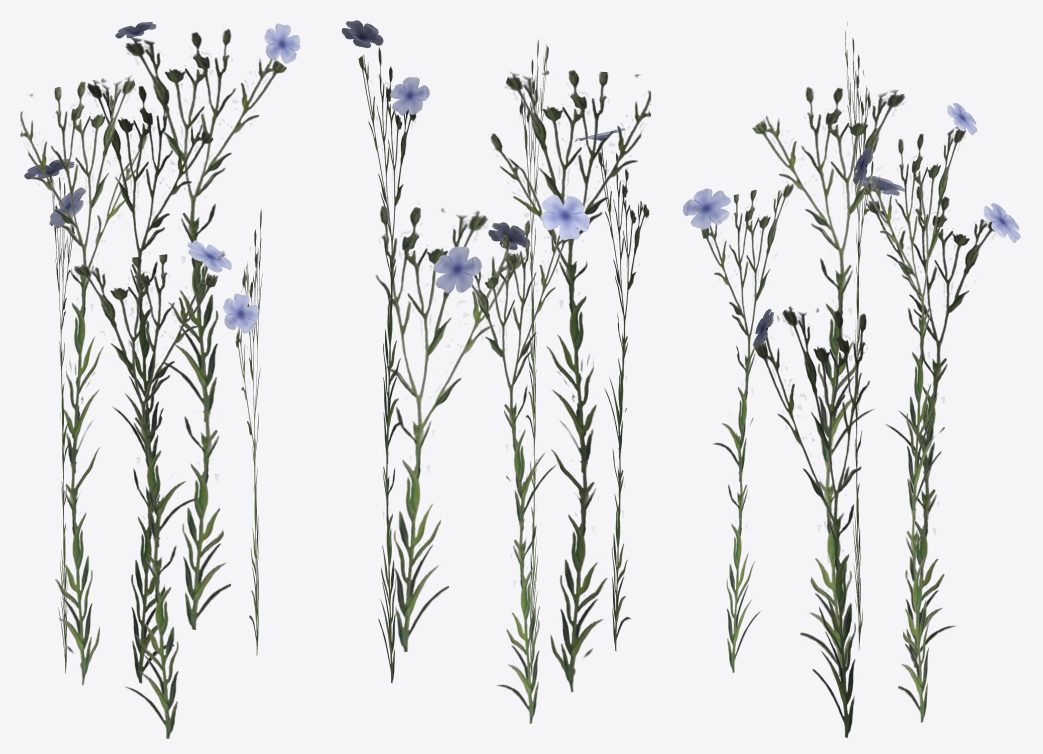
The model's file is linen-flower.glb.
3 renders of one model, left to right at view 1: azimuth 30°, elevation 25°; view 2: azimuth 150°, elevation 25°; view 3: azimuth 270°, elevation 25°, orthographic. The views are drawn at different scales.
Parts seen in each view (by area): view 1: Linen/wFlower, Linen/wFlower_M, Linen/wFlower_L; view 2: Linen/wFlower, Linen/wFlower_M, Linen/wFlower_L; view 3: Linen/wFlower_M, Linen/wFlower_L, Linen/wFlower.
Part boxes in pixels (left/top/right/bottom): Linen/wFlower: left=20, top=22, right=298, bottom=738; Linen/wFlower_M: left=20, top=23, right=286, bottom=737; Linen/wFlower_L: left=21, top=22, right=300, bottom=677; Linen/wFlower: left=342, top=22, right=650, bottom=723; Linen/wFlower_M: left=342, top=22, right=650, bottom=719; Linen/wFlower_L: left=343, top=20, right=642, bottom=671; Linen/wFlower_M: left=684, top=23, right=1017, bottom=737; Linen/wFlower_L: left=683, top=38, right=1020, bottom=737; Linen/wFlower: left=684, top=87, right=1019, bottom=717.
Size of the model in its own units: 21.59 by 43.28 by 22.
Materials: 2 (2 with a texture image).
